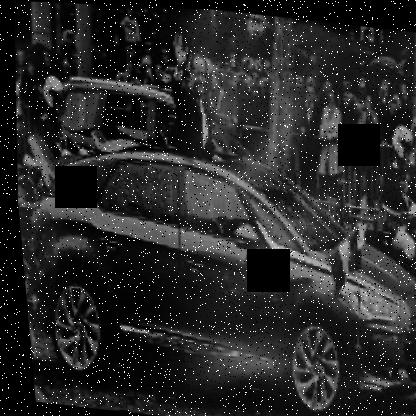not_emergency: (9, 107, 415, 415)
